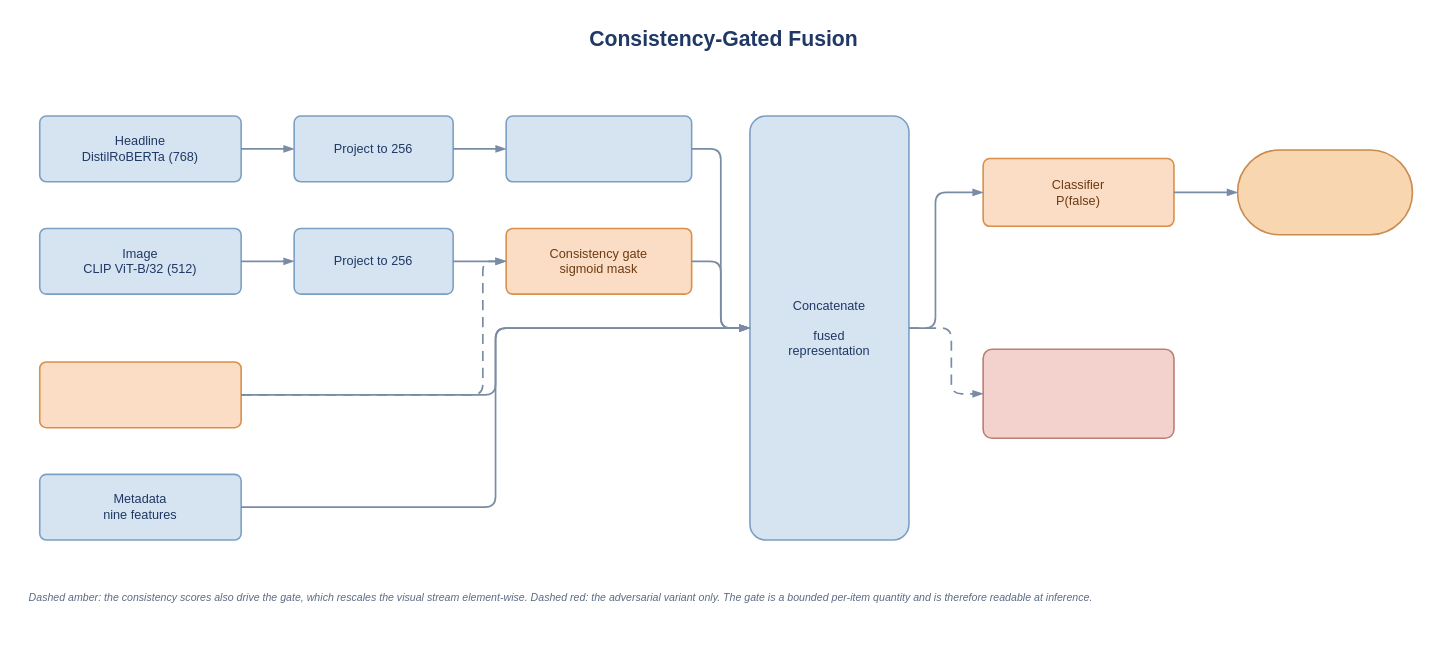
The diagram is 1446 pixels wide and 649 high, and some of its shapes have lost their labels. Here are the shapes that lost their labels. From the top down, the centre of each, then its label:
the point at 598,148: Interaction t · v, |t - v|
the point at 1324,192: Calibrated probability and readable gate
the point at 139,394: Consistency scores cosine, batch rank
the point at 1078,393: Gradient reversal source-community adversary
